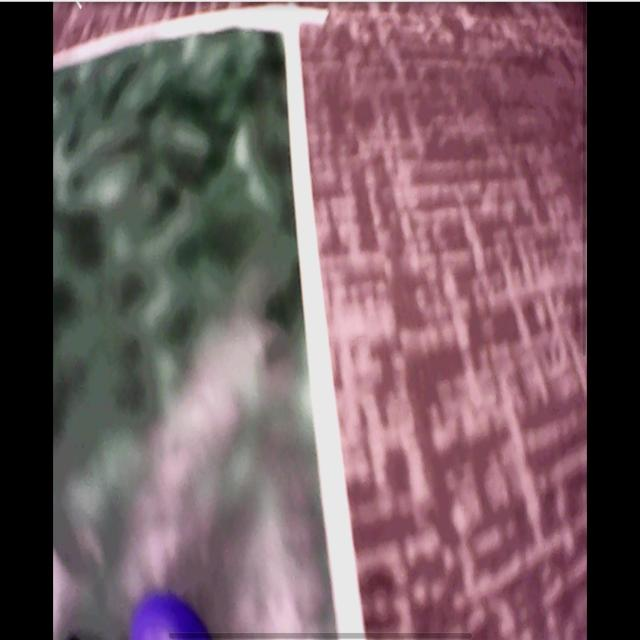ball: (128, 595, 209, 639)
